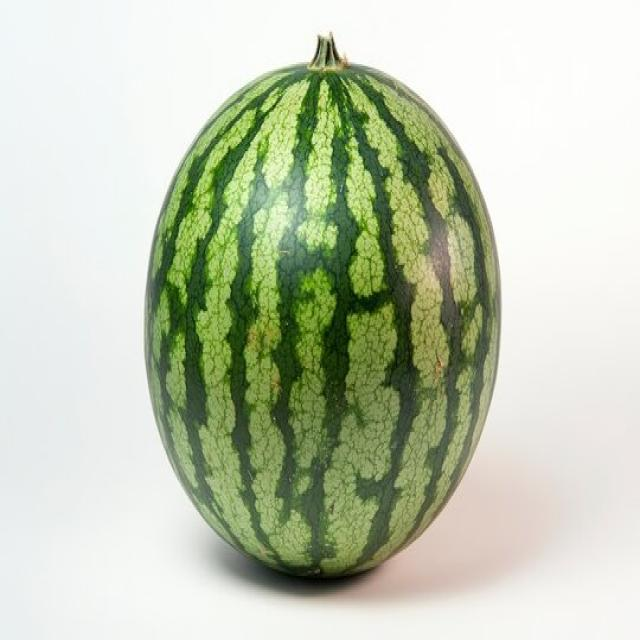Watermelon: (146, 42, 500, 574)
